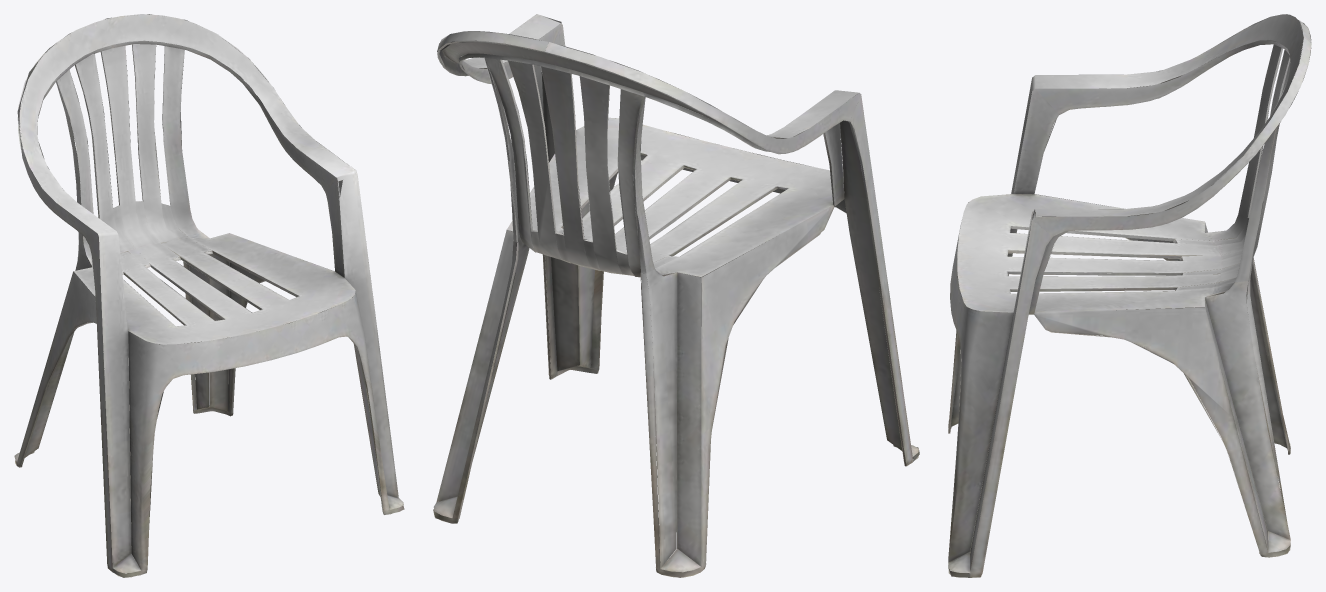
The model's file is ph_plastic_monobloc_chair_01.glb.
The picture shows the model from 3 angles, left to right: view 1: azimuth 30°, elevation 25°; view 2: azimuth 150°, elevation 25°; view 3: azimuth 270°, elevation 25°; orthographic projection. The views are drawn at different scales.
Parts seen in each view (by area): view 1: plastic_monobloc_chair_01; view 2: plastic_monobloc_chair_01; view 3: plastic_monobloc_chair_01.
Boxes of the visible parts, x1,y1,x2,y2 form: plastic_monobloc_chair_01: (14, 14, 404, 577); plastic_monobloc_chair_01: (433, 14, 919, 577); plastic_monobloc_chair_01: (948, 14, 1311, 577).
Size of the model in its own units: 0.6455 by 0.8806 by 0.6282.
Materials: 1 (1 with a texture image).
